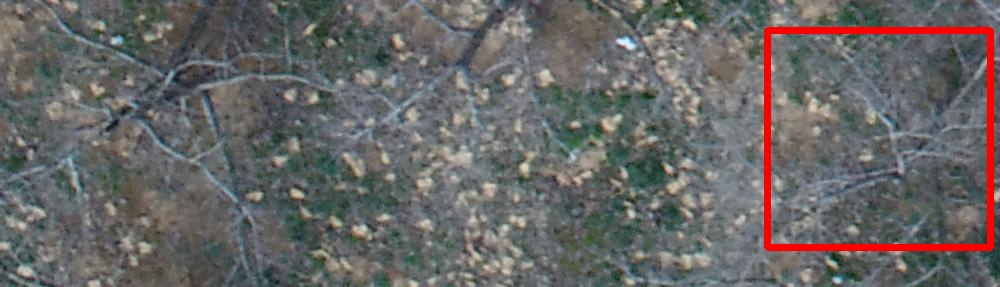apple: (767, 30, 990, 247)
